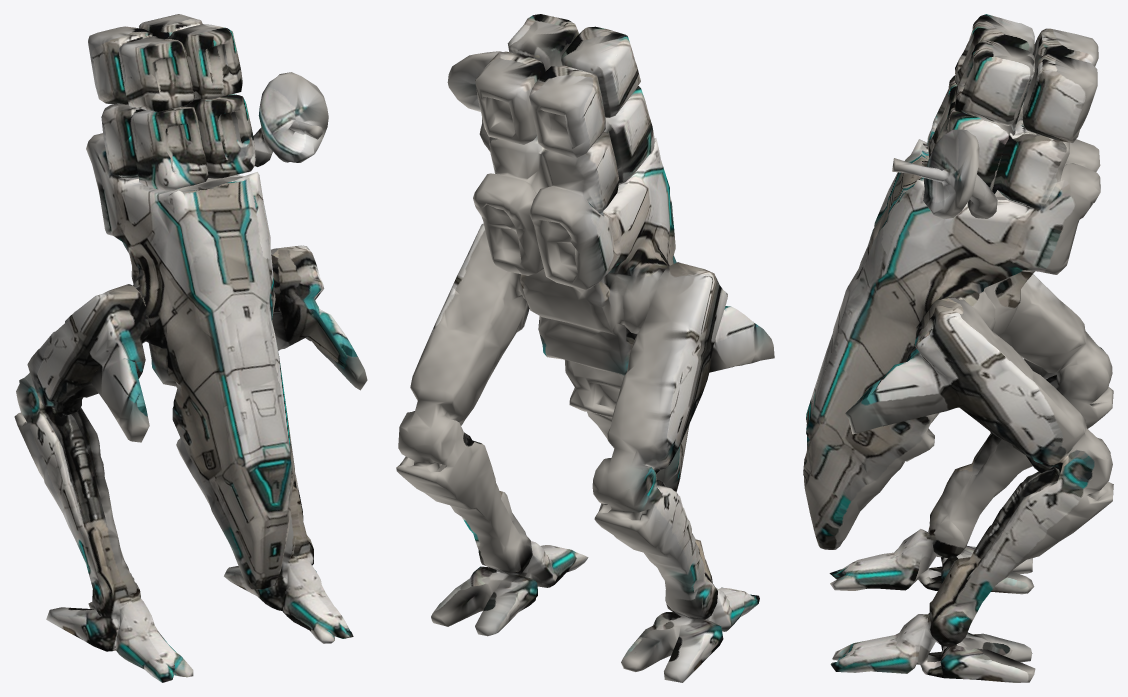
The model's file is heron_lod1.glb.
3 views of the same model, side by side, from view 1: azimuth 30°, elevation 25°; view 2: azimuth 150°, elevation 25°; view 3: azimuth 270°, elevation 25° (orthographic). The views are drawn at different scales.
Parts seen in each view (by area): view 1: geometry_0; view 2: geometry_0; view 3: geometry_0.
Boxes of the visible parts, box(x1,y1,x2,y2) form: geometry_0: box(14, 14, 367, 682); geometry_0: box(396, 14, 774, 682); geometry_0: box(803, 14, 1113, 682).
Size of the model in its own units: 0.9152 by 2 by 0.9533.
Materials: 1 (1 with a texture image).
